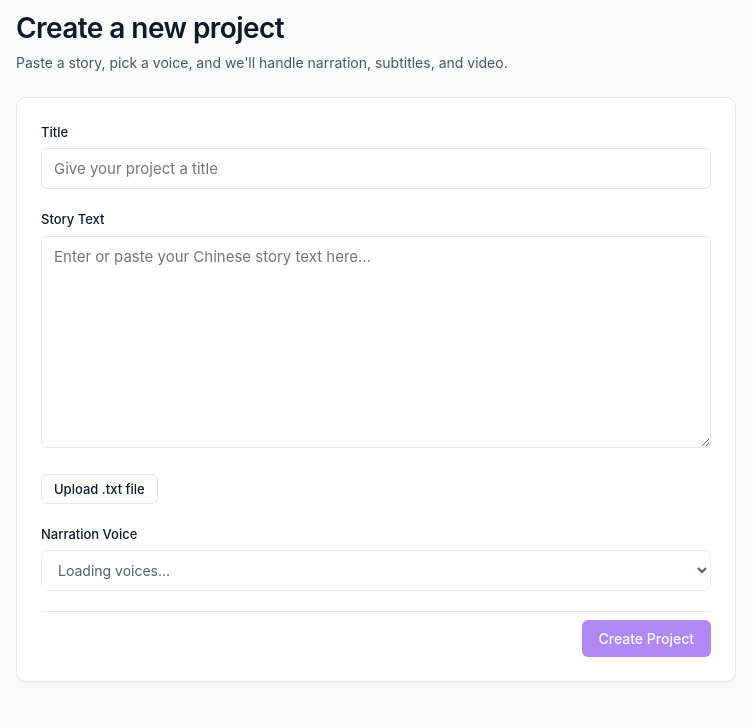
Test: CreateProjectPage › clears story-text validation error when user types in the textarea
Step 1. Type "My Story" into the field labelled "Title" → {"x": 376, "y": 169}, box [41,148,711,189]
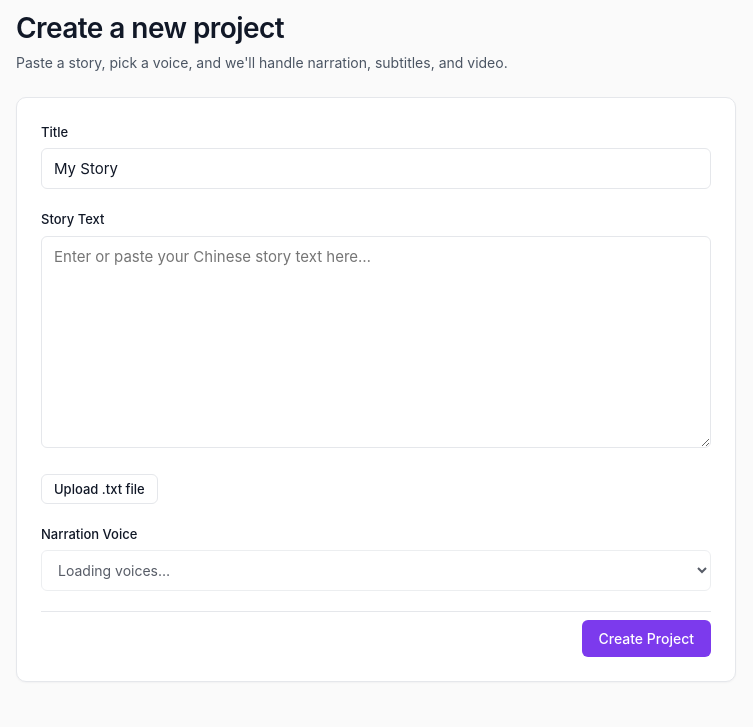
Step 2. Click the button "Create Project" → {"x": 646, "y": 638}, box [582,620,711,657]
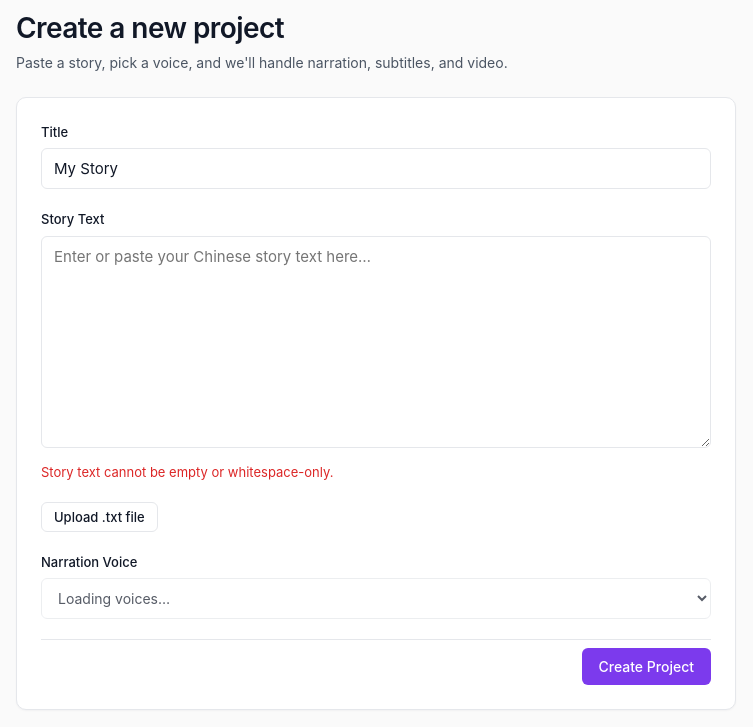
expect the text "Story text cannot be empty or whitespace-only." is shown: met, box [41,464,333,480]
Step 3. Type "a" into the text box labelled "Story Text" → {"x": 376, "y": 342}, box [41,236,711,448]
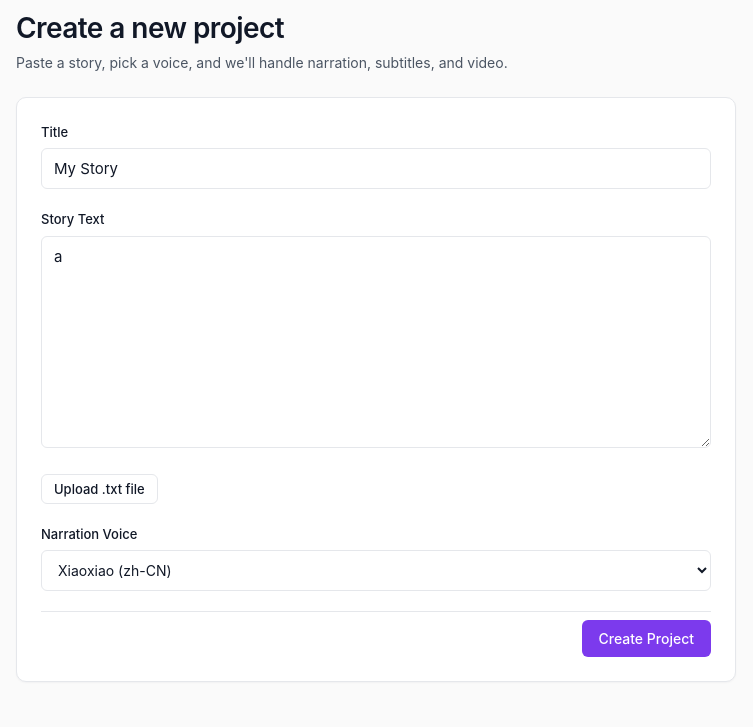
expect the text "Story text cannot be empty or whitespace-only." is gone: met
